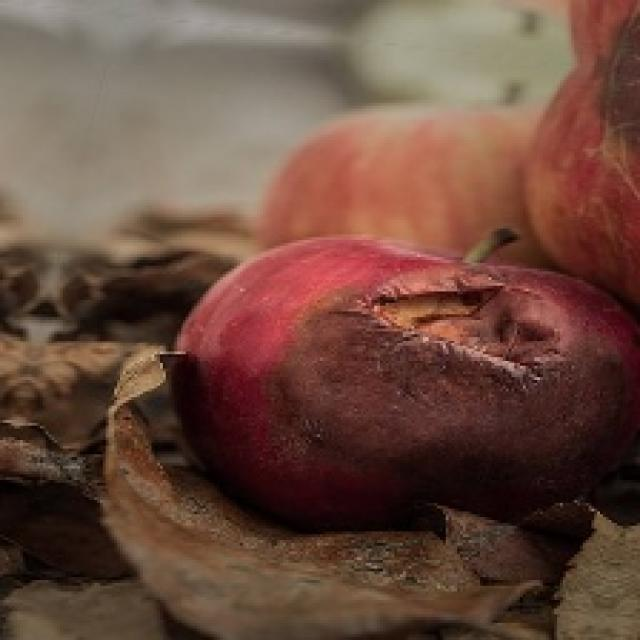rotten_apple: (175, 236, 640, 535)
